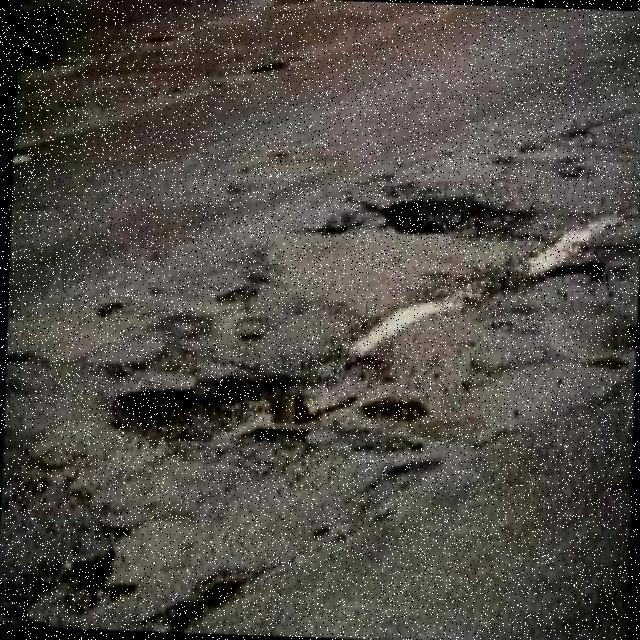Pothole: (112, 375, 355, 440), (383, 197, 538, 243)
